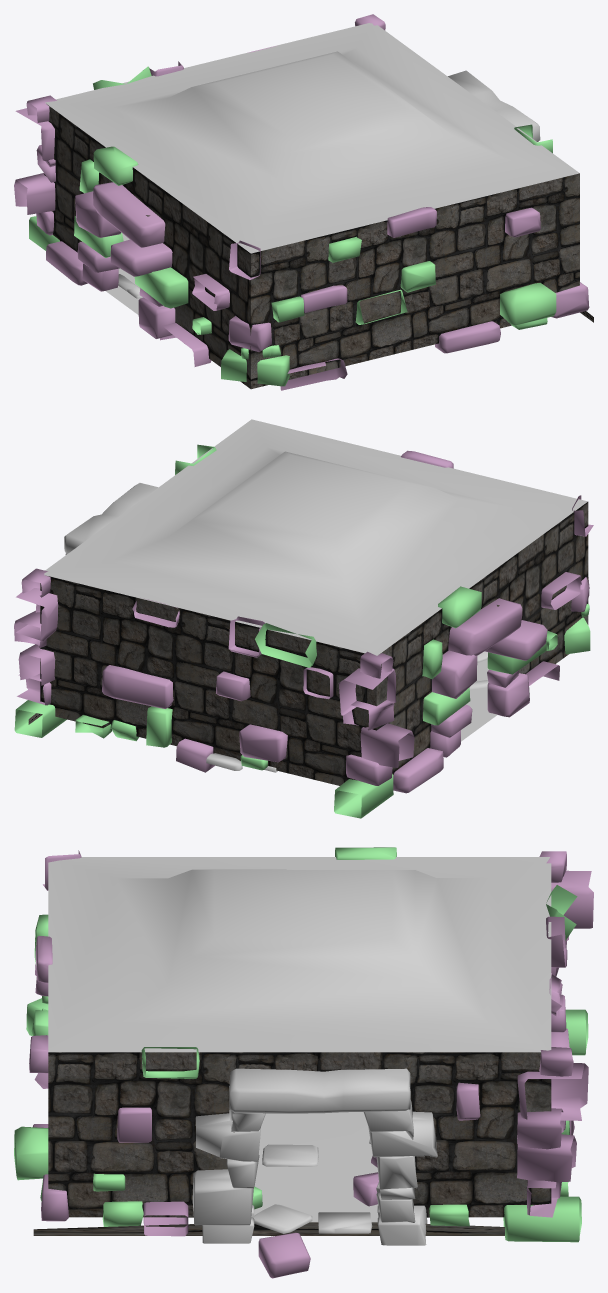
Rendered from TombRCentralSecondTime.FBX.
3 renders of one model, top to bottom at view 1: azimuth 30°, elevation 25°; view 2: azimuth 150°, elevation 25°; view 3: azimuth 270°, elevation 25°, orthographic. The views are drawn at different scales.
Visible parts, largest first — view 1: Tomb_Central, TombR_RockCentral; view 2: Tomb_Central, TombR_RockCentral; view 3: Tomb_Central, TombR_RockCentral.
Part boxes in pixels (box(x1,y1,x2,y2)): Tomb_Central: box(44, 23, 593, 389); TombR_RockCentral: box(14, 14, 589, 390); Tomb_Central: box(28, 419, 588, 785); TombR_RockCentral: box(14, 444, 593, 818); Tomb_Central: box(33, 857, 551, 1235); TombR_RockCentral: box(14, 847, 593, 1278).
Bounding box in the file's own units: 1550 × 660 × 1437.
